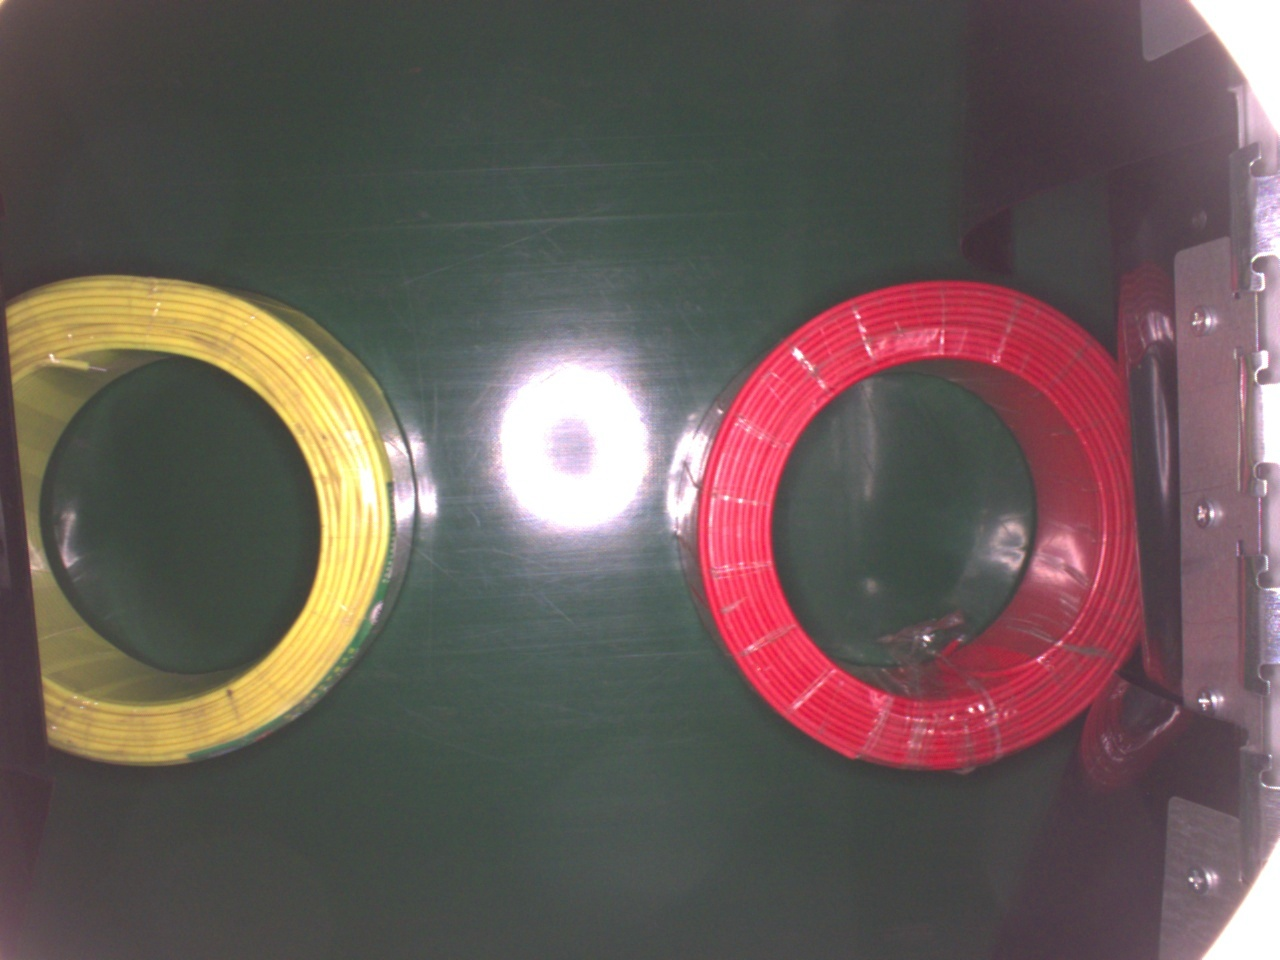red: (667, 277, 1142, 776)
yellow: (0, 270, 415, 768)
